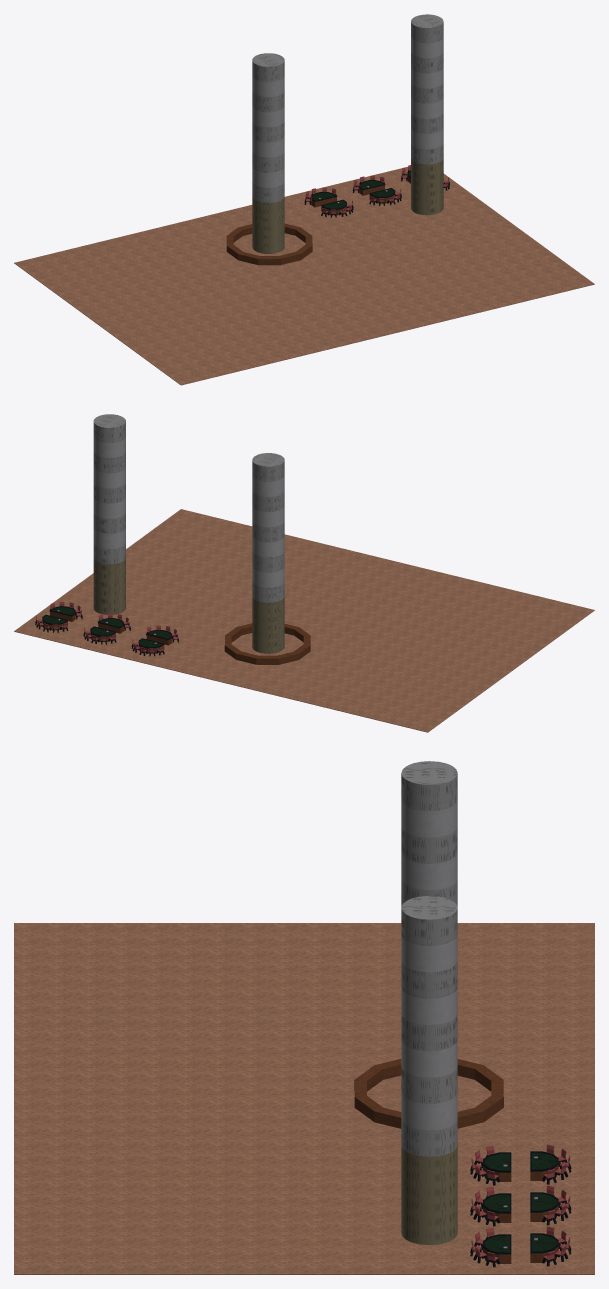
The model's file is trabajos-sala.glb.
3 renders of one model, top to bottom at view 1: azimuth 30°, elevation 25°; view 2: azimuth 150°, elevation 25°; view 3: azimuth 270°, elevation 25°, orthographic. The views are drawn at different scales.
Parts seen in each view (by area): view 1: modelo; view 2: modelo; view 3: modelo.
Part boxes in pixels (x1=…): modelo: x1=14, y1=14, x2=594, y2=385; modelo: x1=14, y1=414, x2=594, y2=732; modelo: x1=14, y1=761, x2=594, y2=1274.
Size of the model in its own units: 10.3 by 4.46 by 7.2.
10 materials, 10 textured.
